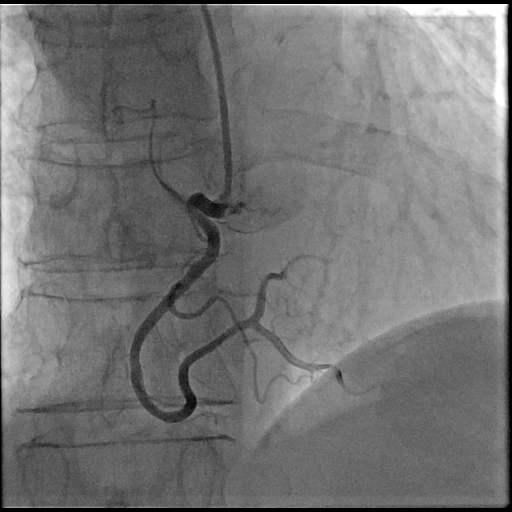RCA: (130, 193, 319, 423)
catherter: (205, 11, 233, 203)
